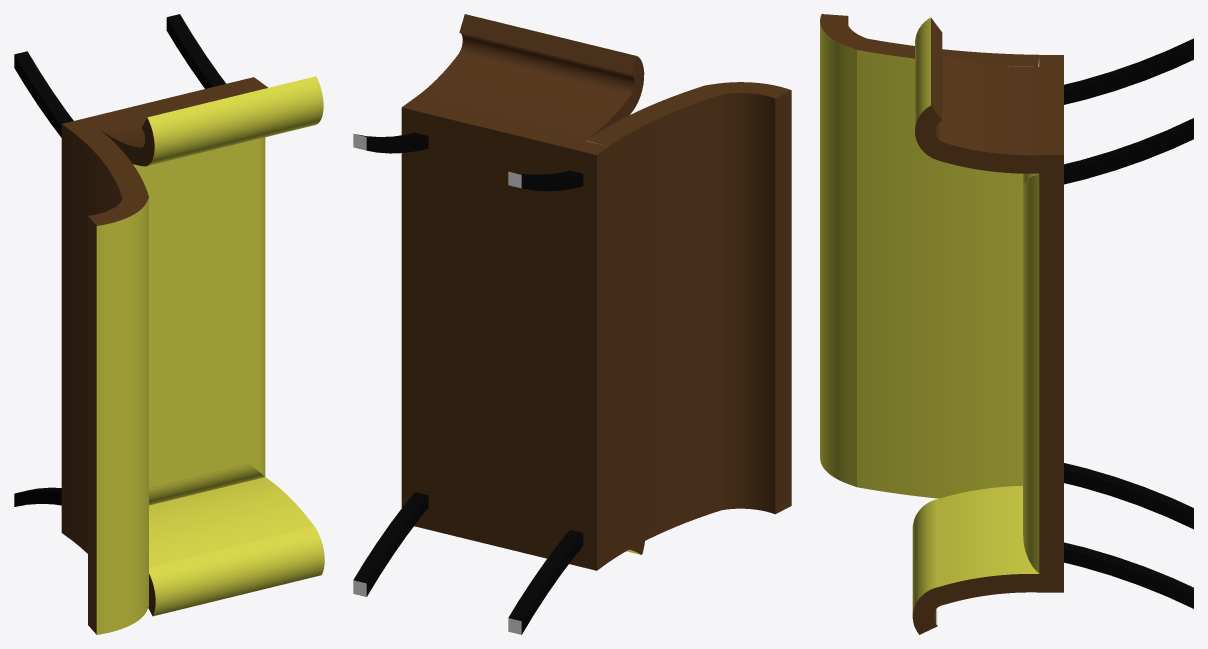
Rendered from Sofa1.fbx.
3 renders of one model, left to right at view 1: azimuth 30°, elevation 25°; view 2: azimuth 150°, elevation 25°; view 3: azimuth 270°, elevation 25°, orthographic. The views are drawn at different scales.
Visible parts, largest first — view 1: Model; view 2: Model; view 3: Model.
Boxes of the visible parts, x1,y1,x2,y2 form: Model: (14,14,324,634); Model: (353,14,791,634); Model: (820,14,1193,634).
Bounding box in the file's own units: 0.8162 × 1.43 × 0.9134.
